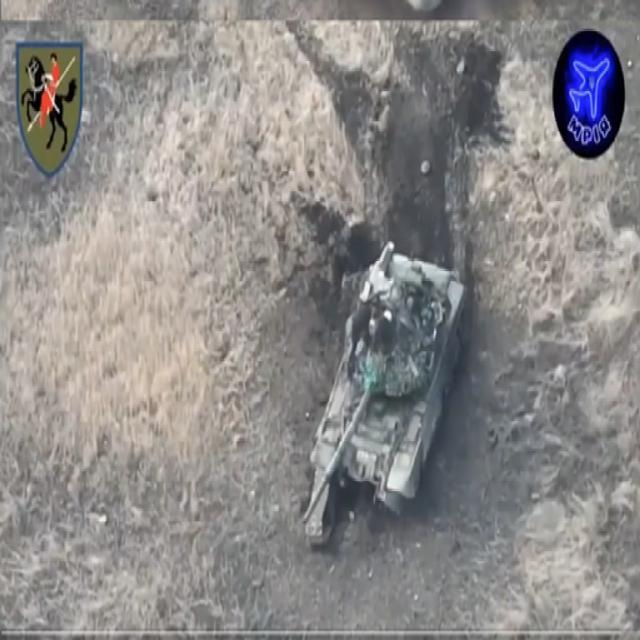TANK: (302, 236, 468, 544)
